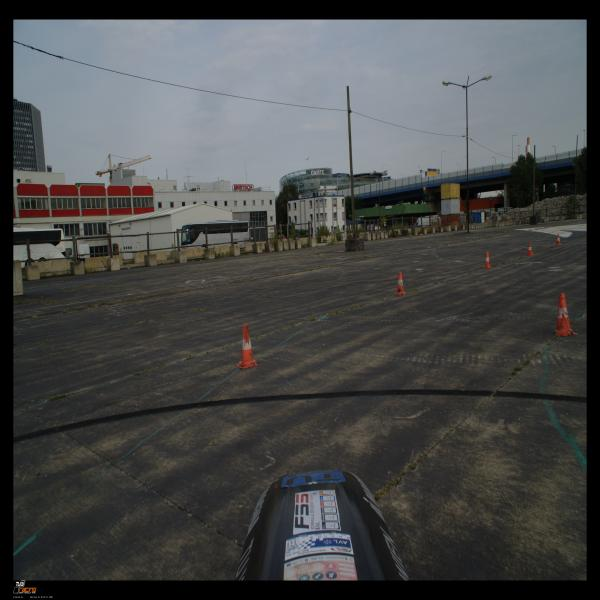orange_cone: (554, 292, 578, 336), (237, 324, 259, 368), (395, 272, 406, 295), (482, 252, 492, 268), (527, 242, 534, 255), (555, 234, 562, 246)
